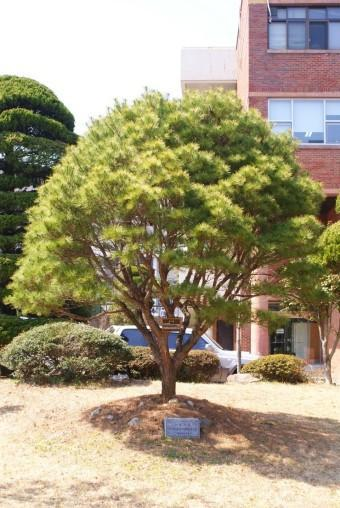tree: (11, 82, 321, 415)
